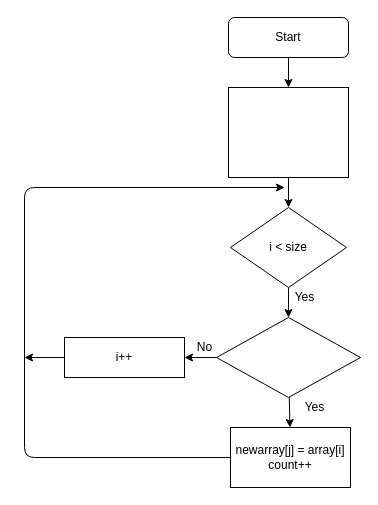
This 378x505 diagram has some shape labels left out. Here are the shapes that lost their labels. From the top down, the centre of each, then its label:
At point (288, 132): "array newarray size i = 0 j = 0 count = 0".
At point (288, 357): "array[i].Length <= 3".
